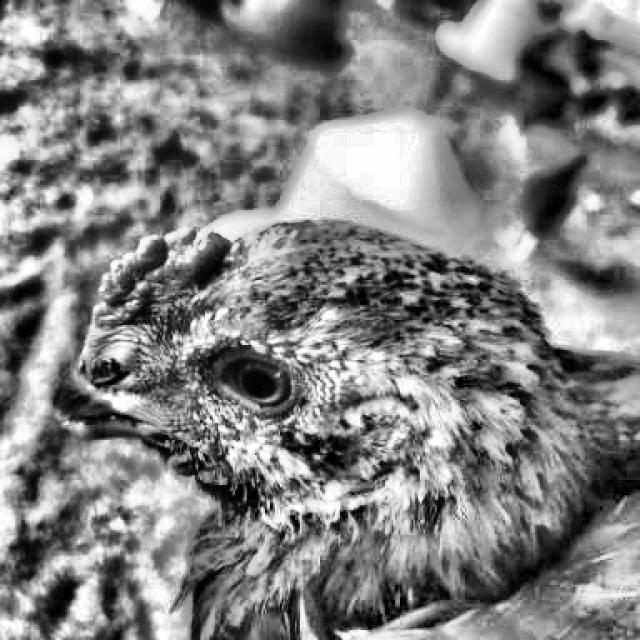Healthy: (190, 347, 320, 428)
